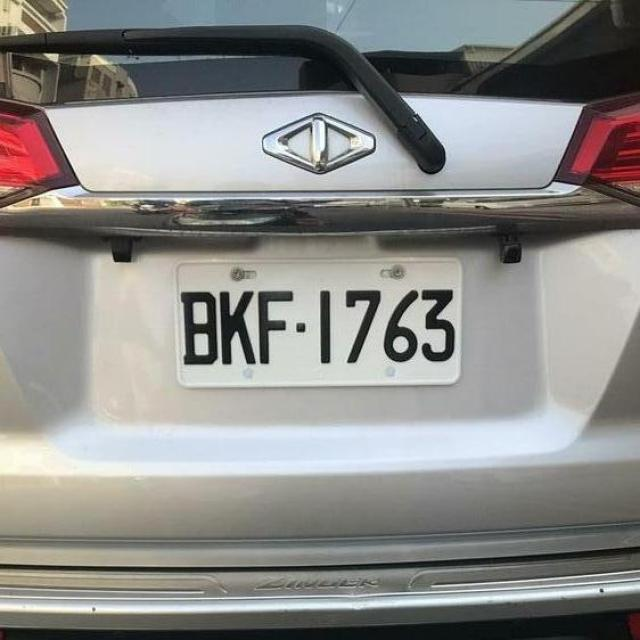W: (162, 242, 472, 395)
